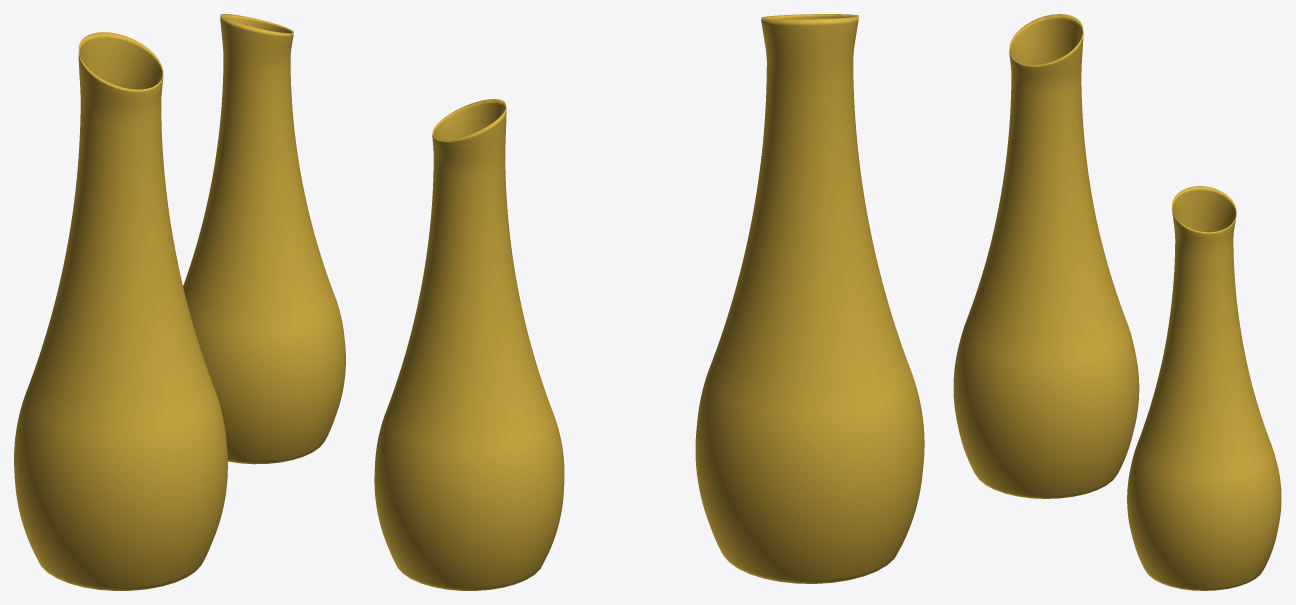
Rendered from yellow_vase.glb.
3 renders of one model, left to right at view 1: azimuth 30°, elevation 25°; view 2: azimuth 150°, elevation 25°; view 3: azimuth 270°, elevation 25°, orthographic. The views are drawn at different scales.
Visible parts, largest first — view 1: Object014, Object015; view 2: Object014, Object015; view 3: Object014, Object015.
Part boxes in pixels (box(x1,y1,x2,y2)): Object014: box(14, 32, 227, 590); Object015: box(183, 14, 345, 464); Object014: box(695, 14, 924, 583); Object015: box(374, 99, 564, 590); Object014: box(953, 14, 1139, 498); Object015: box(1127, 186, 1281, 590).
Bounding box in the file's own units: 1.79 × 2.22 × 1.48.
